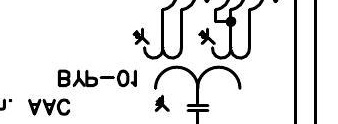115_cvt_3p: (132, 27, 252, 112)
